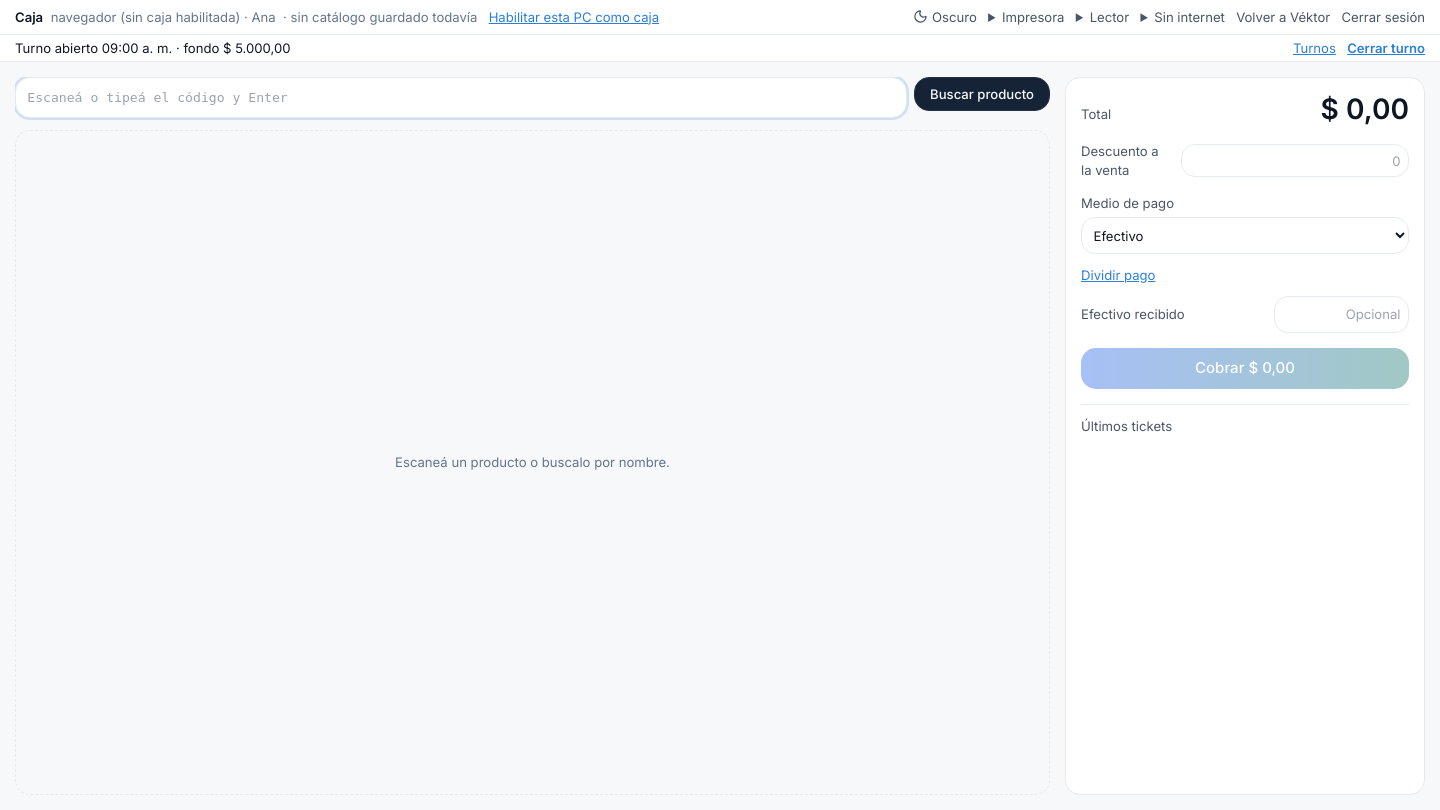
Test: cierre ciego › avisa lo pendiente del turno separando lo que está en corrección
This screenshot has width=1440, height=810.
Click the button "Cerrar turno" at [1386, 48], box [1347,38,1425,57]
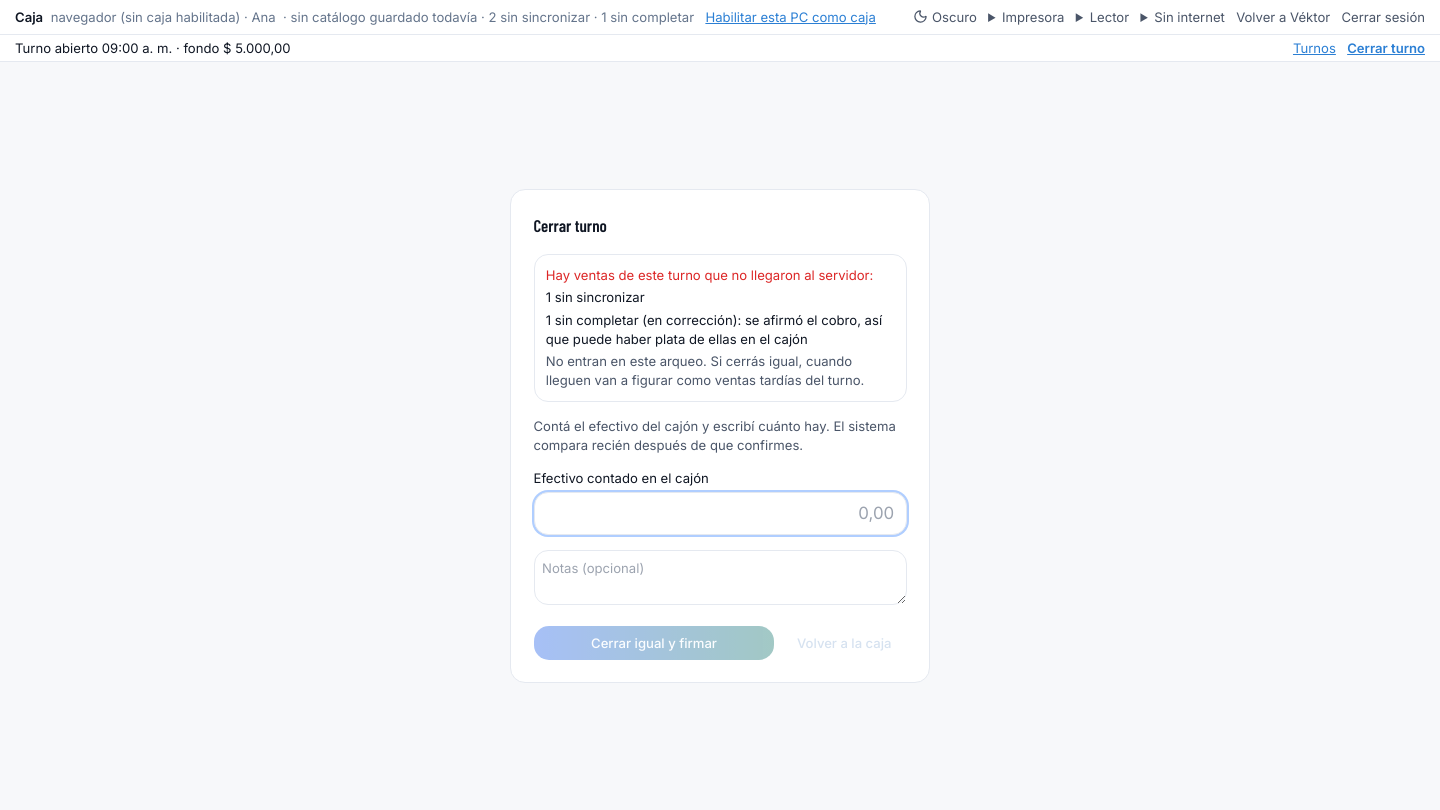
Expected: the text with test id "cierre-sin-sincronizar" reads "1 sin sincronizar", [546,289,645,305]
Expected: the text with test id "cierre-en-correccion" shows "1 sin completar", [546,311,894,348]
Expected: the button "Cerrar igual y firmar" is shown, [534,626,774,660]
